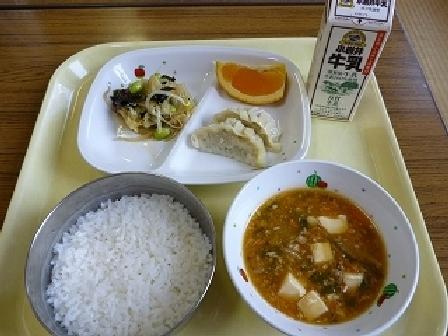Citrus: (206, 49, 289, 104)
Milk: (296, 1, 405, 111)
Rice: (19, 171, 219, 326)
Salad: (94, 66, 192, 147)
Spicy chili-flavored tofu: (227, 165, 408, 325)
tushpara-wo-soup: (191, 103, 276, 170)
